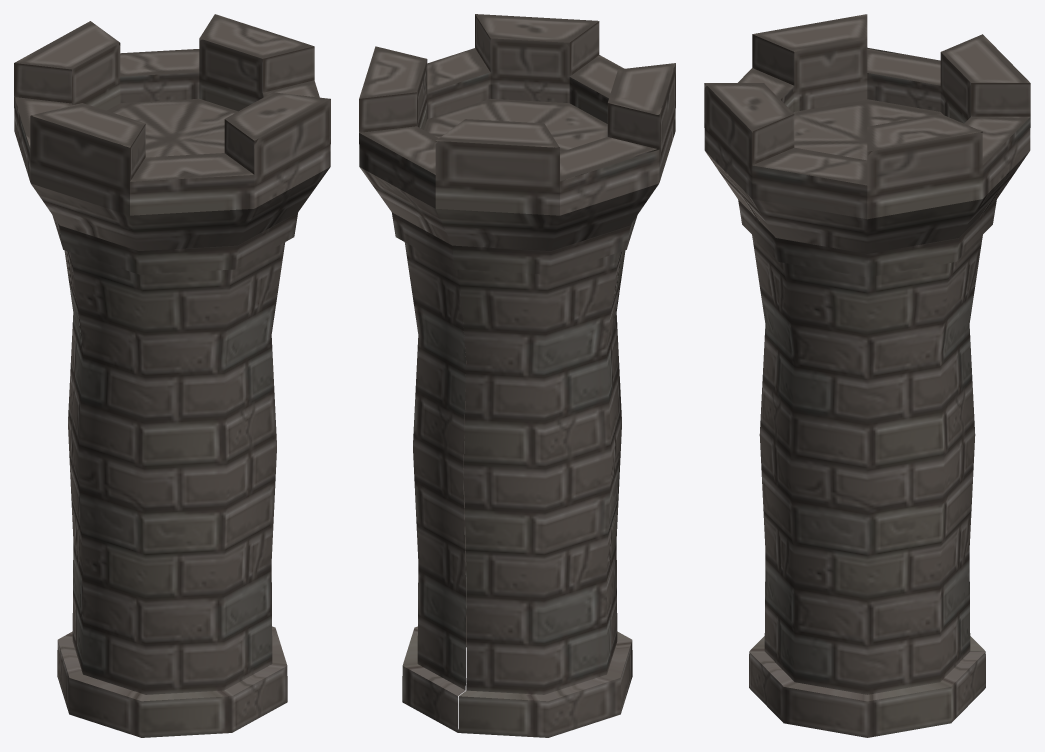
The model's file is Tower1V2_breakable.fbx.
The picture shows the model from 3 angles, left to right: view 1: azimuth 30°, elevation 25°; view 2: azimuth 150°, elevation 25°; view 3: azimuth 270°, elevation 25°; orthographic projection.
Visible parts, largest first — view 1: Tower1; view 2: Tower1; view 3: Tower1.
Part boxes in pixels (x1,y1,x2,y2): Tower1: (14, 14, 330, 737); Tower1: (359, 14, 675, 737); Tower1: (704, 14, 1030, 737).
Bounding box in the file's own units: 2.43 × 4.97 × 2.43.
